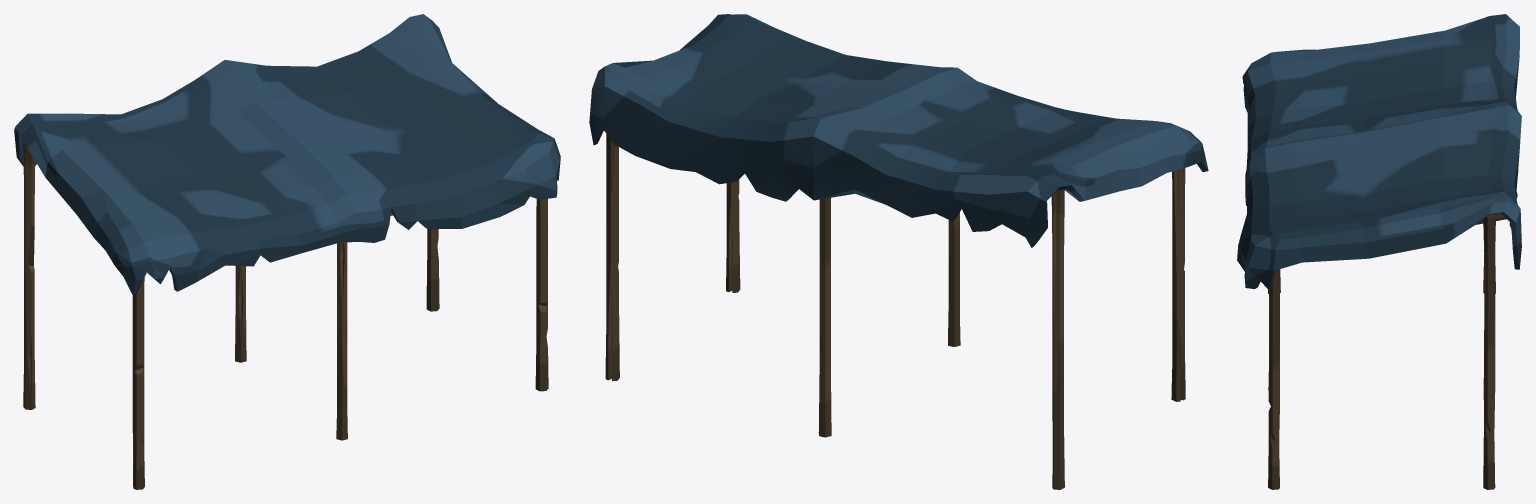
The model's file is SM_Prop_Awning_04.fbx.
The picture shows the model from 3 angles, left to right: view 1: azimuth 30°, elevation 25°; view 2: azimuth 150°, elevation 25°; view 3: azimuth 270°, elevation 25°; orthographic projection. The views are drawn at different scales.
Visible parts, largest first — view 1: SM_Prop_Awning_04; view 2: SM_Prop_Awning_04; view 3: SM_Prop_Awning_04.
Part boxes in pixels (<box>): SM_Prop_Awning_04: <box>14,14,560,489</box>; SM_Prop_Awning_04: <box>589,14,1208,489</box>; SM_Prop_Awning_04: <box>1237,14,1521,489</box>.
Bounding box in the file's own units: 520 × 332 × 296.
